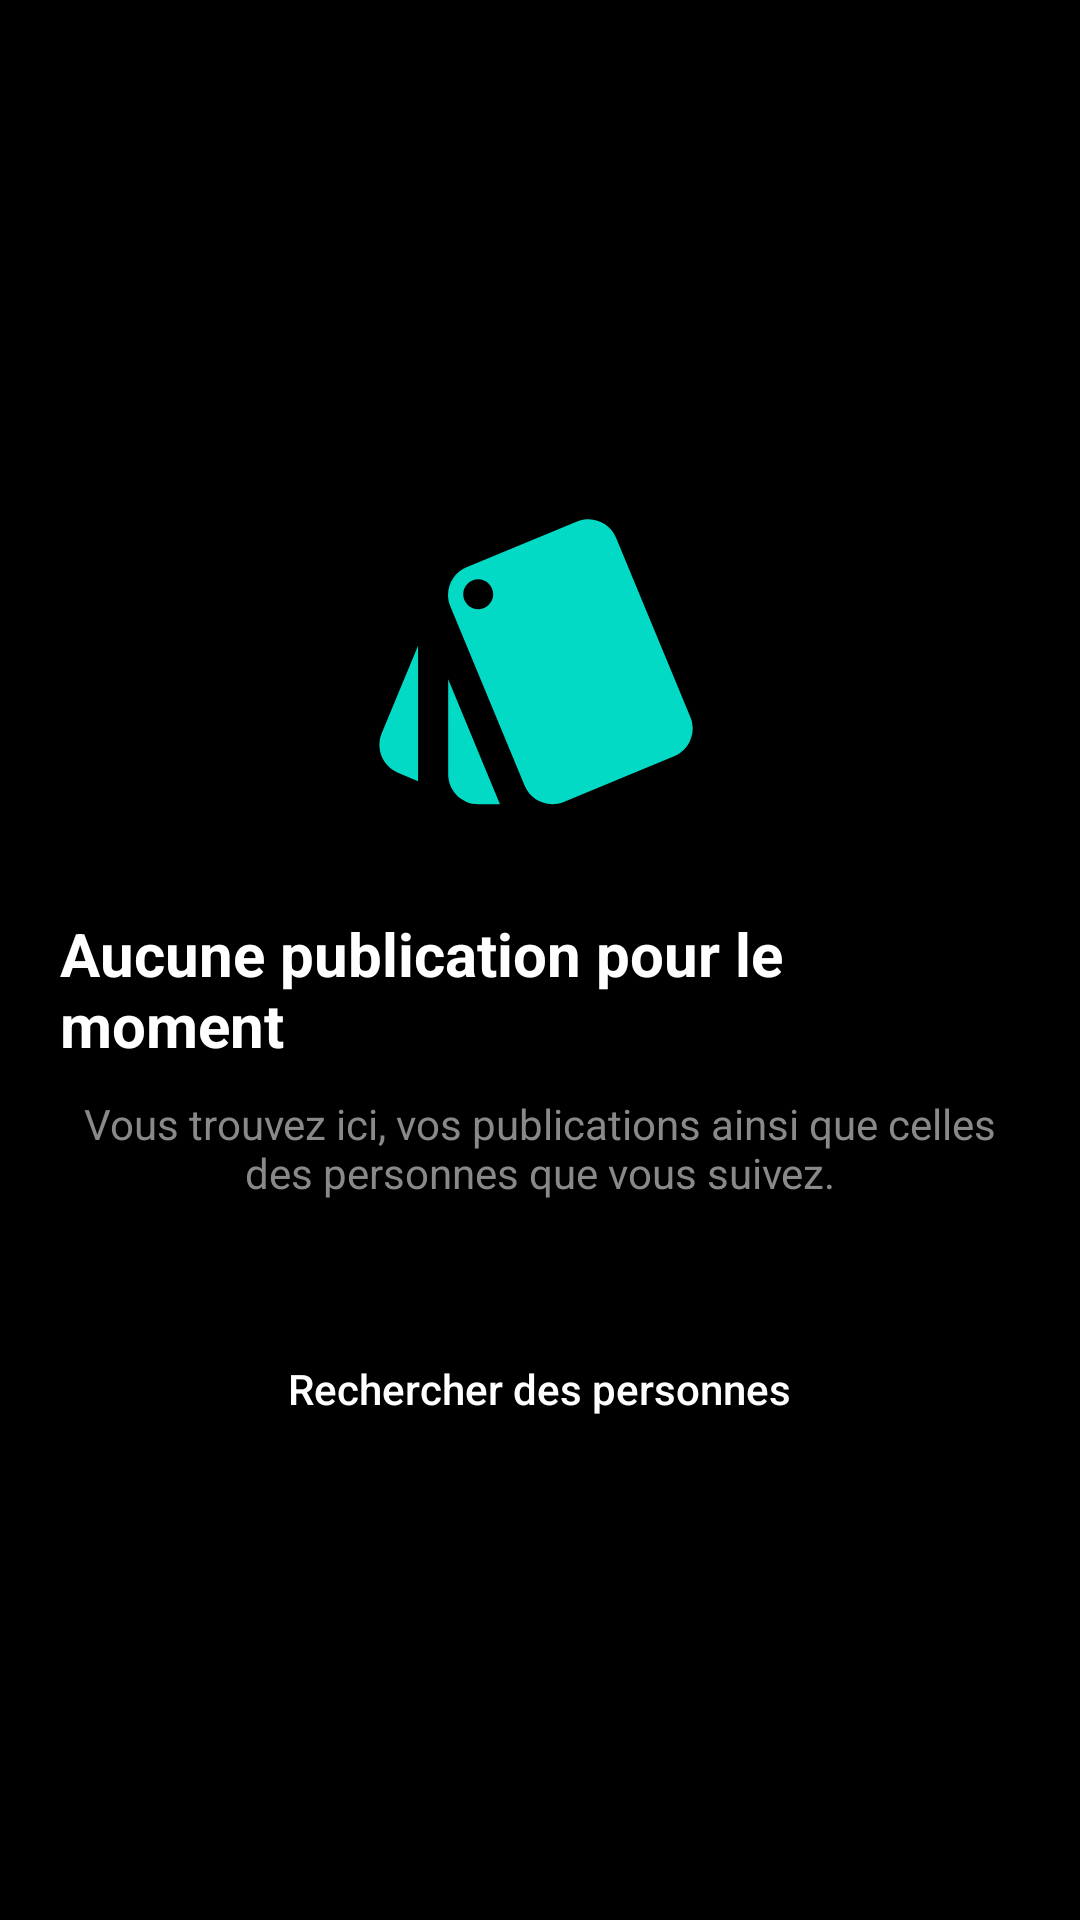

Where to tap for icons on this 1080 x 1920 app screen, as point (x, y):
style: point (536, 662)
